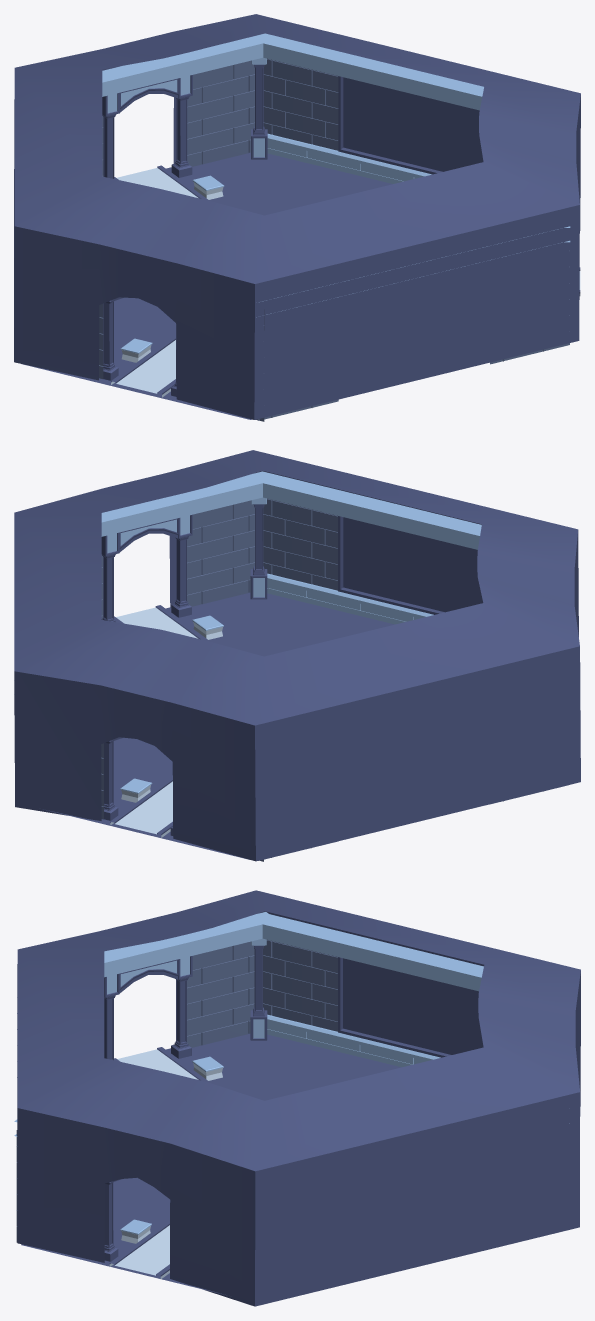
The model's file is B_Temple.fbx.
3 views of the same model, one above another, from view 1: azimuth 30°, elevation 25°; view 2: azimuth 150°, elevation 25°; view 3: azimuth 270°, elevation 25° (orthographic).
Parts seen in each view (by area): view 1: Temple; view 2: Temple; view 3: Temple.
Boxes of the visible parts, x1,y1,x2,y2 form: Temple: [14, 14, 580, 421]; Temple: [14, 450, 580, 861]; Temple: [14, 890, 580, 1306].
Bounding box in the file's own units: 41.94 × 11.64 × 36.34.
1 material, 1 textured.
